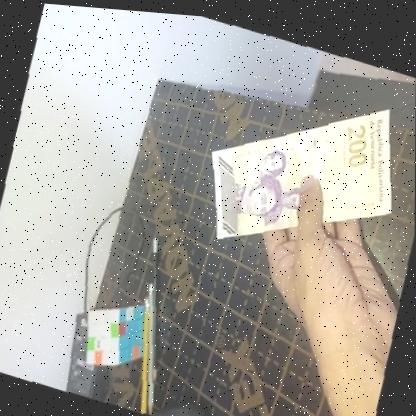two_hundred-front-vef: (191, 52, 416, 285)
